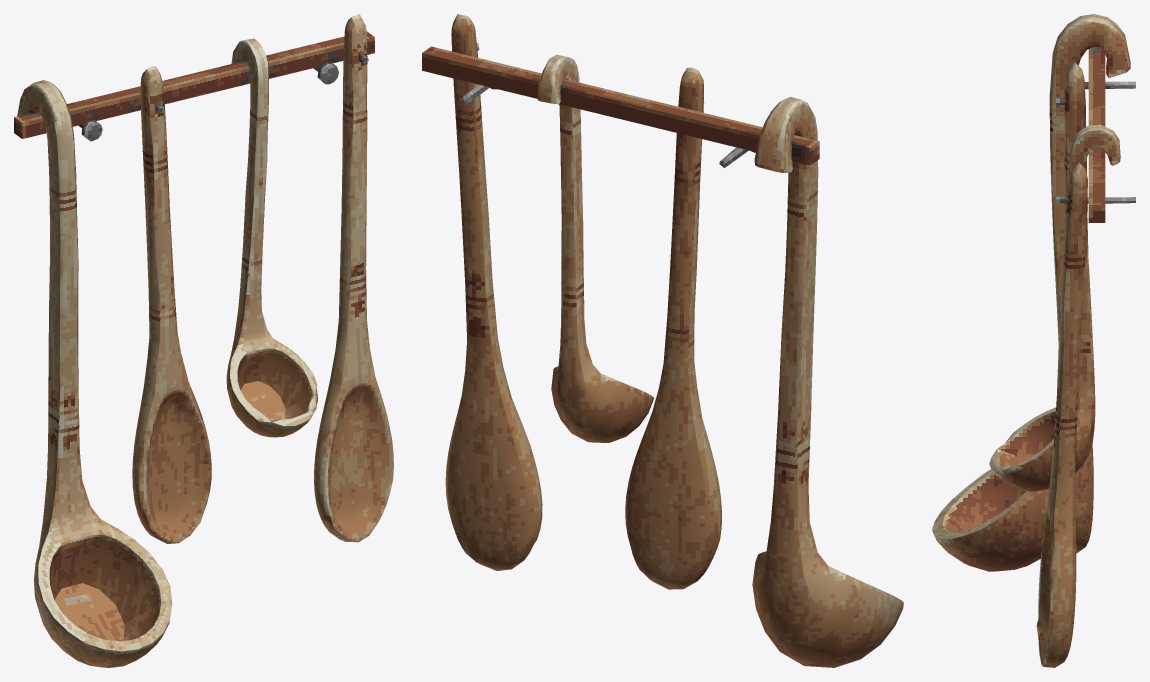
Rendered from ladles_wood.glb.
3 views of the same model, side by side, from view 1: azimuth 30°, elevation 25°; view 2: azimuth 150°, elevation 25°; view 3: azimuth 270°, elevation 25° (orthographic). The views are drawn at different scales.
Parts seen in each view (by area): view 1: mesh; view 2: mesh; view 3: mesh.
Part boxes in pixels (left/top/right/bottom): mesh: left=14, top=14, right=393, bottom=667; mesh: left=422, top=14, right=903, bottom=667; mesh: left=932, top=14, right=1135, bottom=667.
Bounding box in the file's own units: 0.2165 × 0.3 × 0.1018.
Materials: 1 (1 with a texture image).
